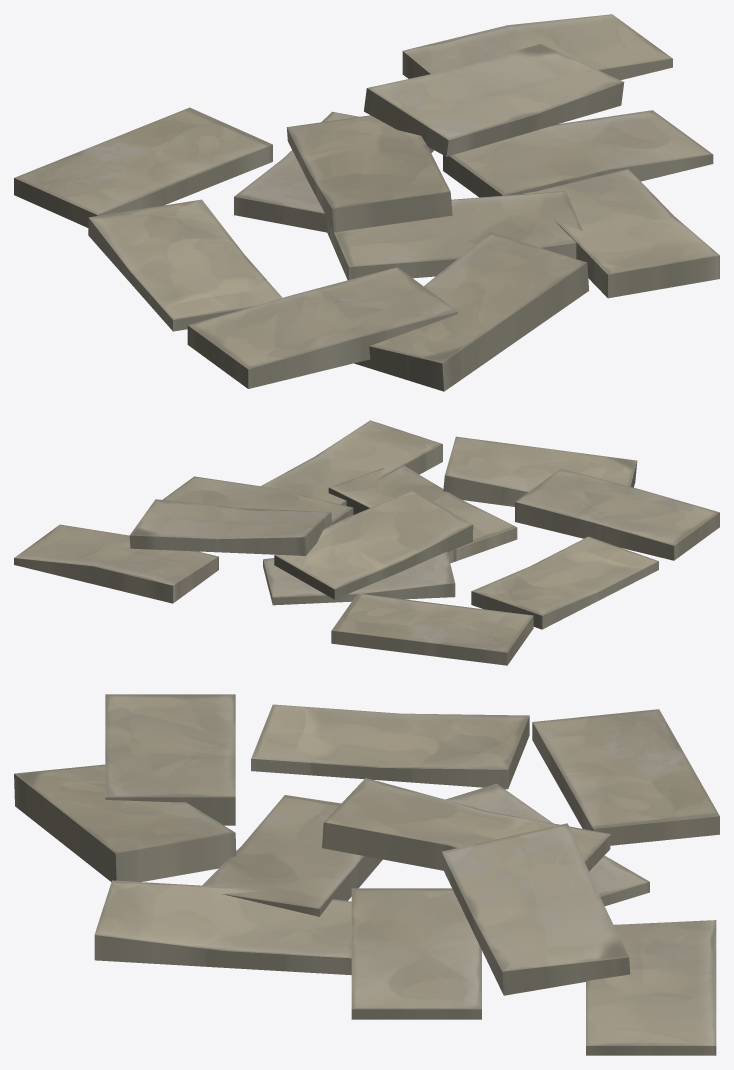
Rendered from Brick_Pile.fbx.
The picture shows the model from 3 angles, top to bottom: view 1: azimuth 30°, elevation 25°; view 2: azimuth 150°, elevation 25°; view 3: azimuth 270°, elevation 25°; orthographic projection. The views are drawn at different scales.
Visible parts, largest first — view 1: Brick_Pile; view 2: Brick_Pile; view 3: Brick_Pile.
Part boxes in pixels (x1,y1,x2,y2): Brick_Pile: (14,14,719,391); Brick_Pile: (14,420,719,665); Brick_Pile: (14,694,719,1055).
Bounding box in the file's own units: 0.5147 × 0.0549 × 0.4515.
1 material, 1 textured.
